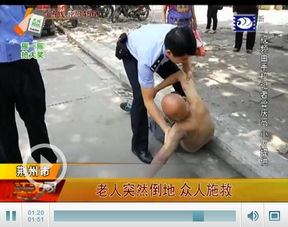fall: (147, 73, 222, 173)
